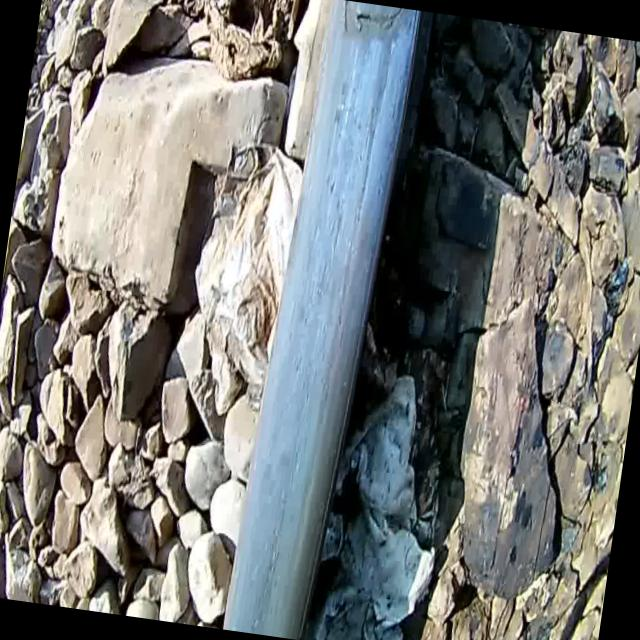Squats: (208, 479, 345, 640), (306, 0, 440, 73)
